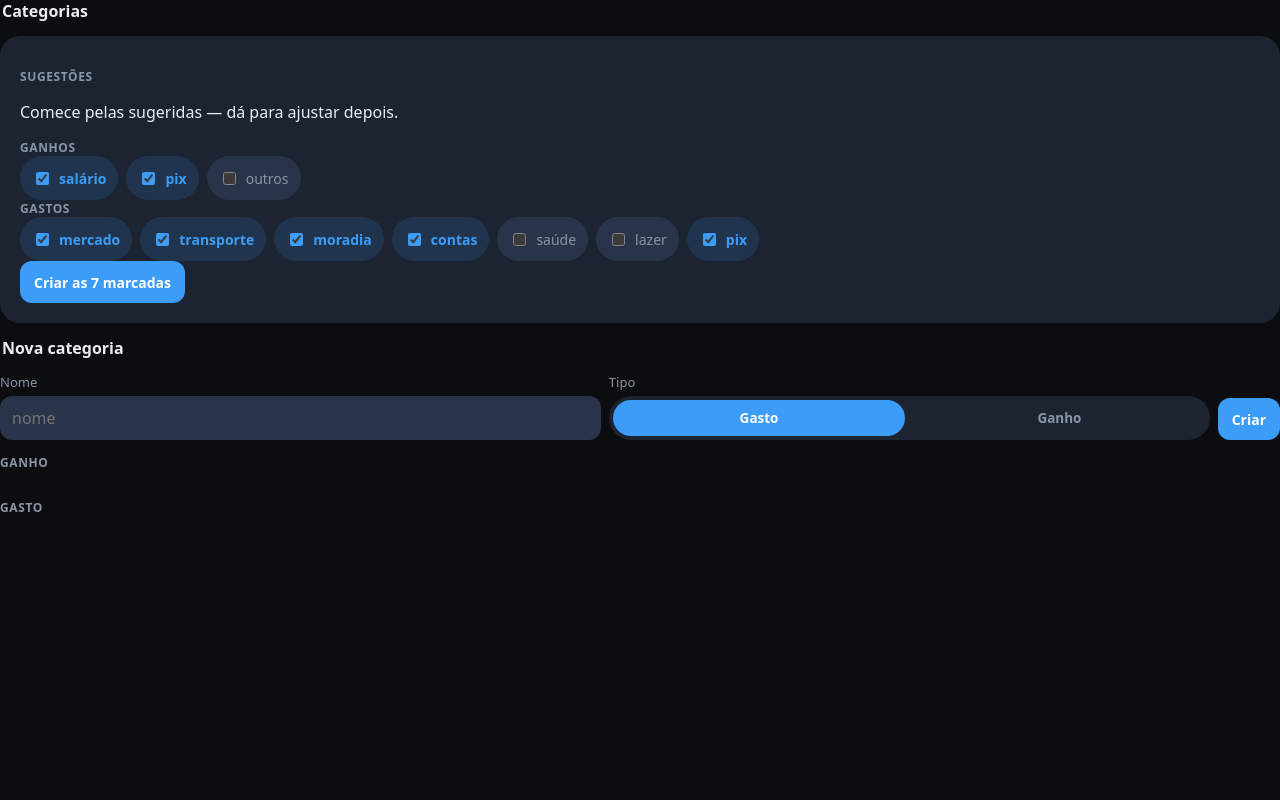
Test case: desmarcar uma sugestão e criar não inclui a desmarcada
This screenshot has width=1280, height=800.
Click the checkbox labelled "saúde" at (520, 239), box [513,232,526,246]
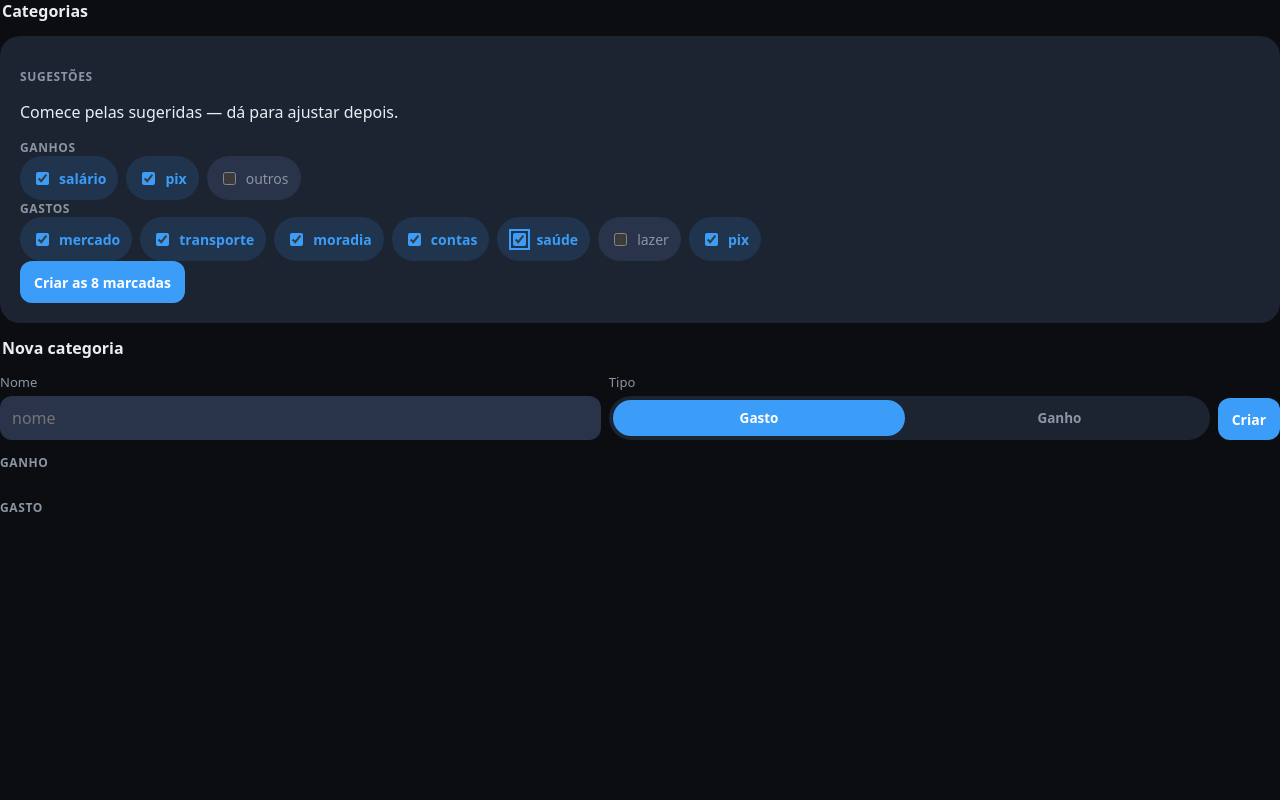
Check: the checkbox labelled "saúde" is checked
Note: desmarcar novamente
Click the checkbox labelled "saúde" at (520, 239), box [513,232,526,246]
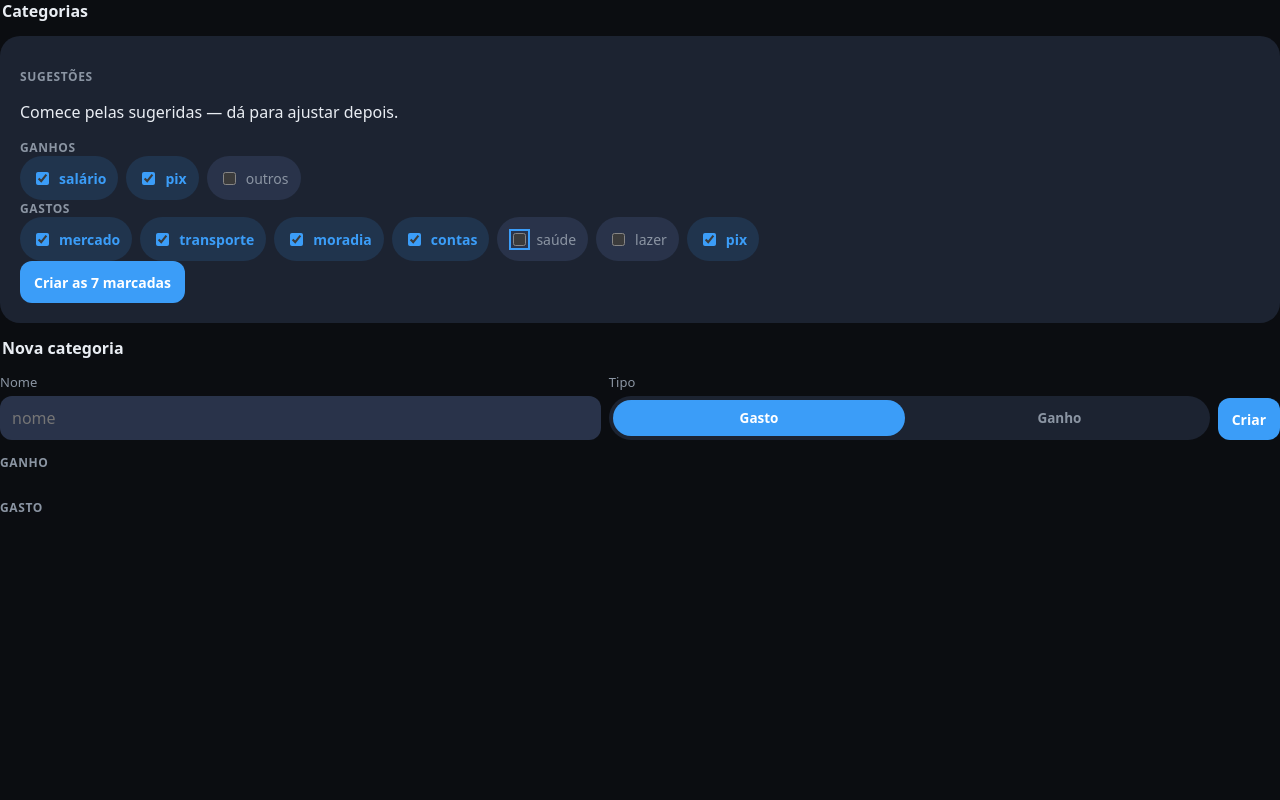
Check: the checkbox labelled "saúde" is not checked, box [513,232,526,246]
Note: criar com saúde desmarcada
Click the button "Criar as 7 marcadas" at (102, 282), box [20,261,185,303]
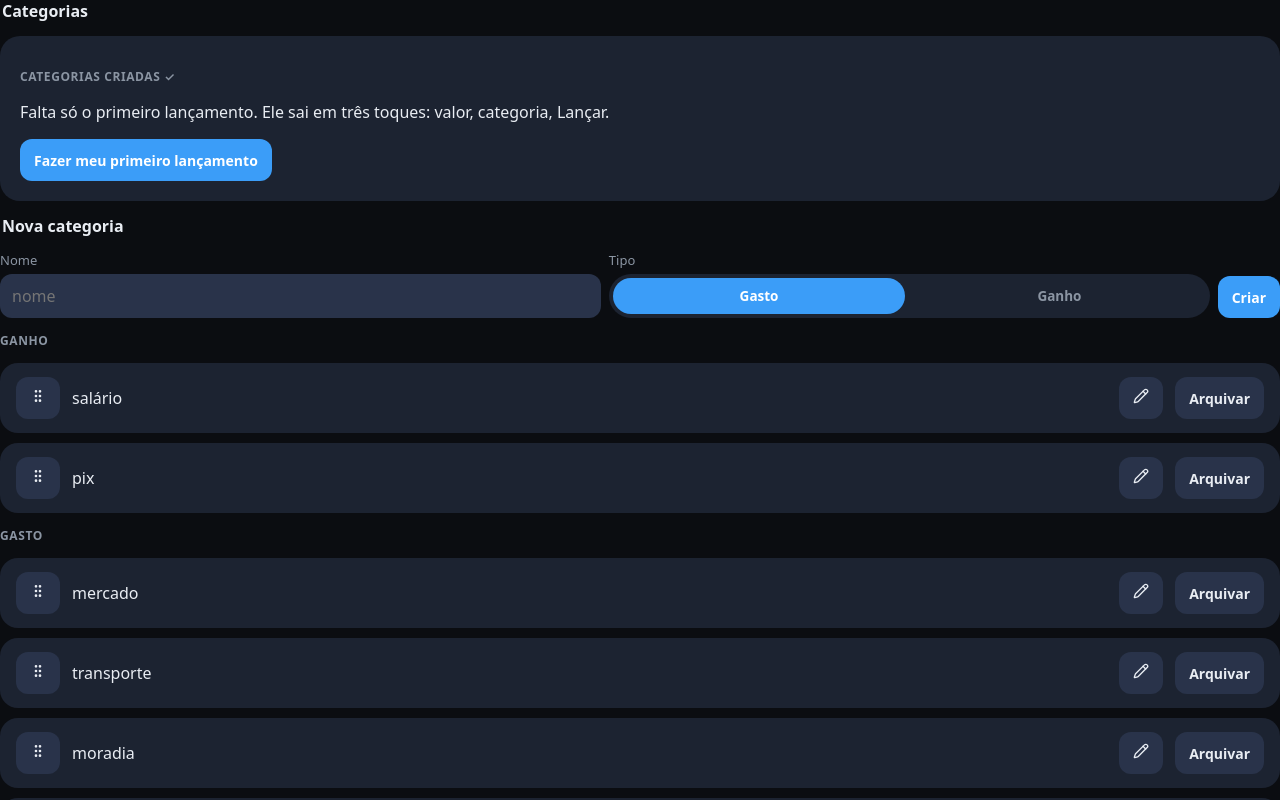
Check: the text "salário" is shown, box [72,387,122,409]
Check: the text "Sugestões" is gone
Check: the text "saúde" is gone
